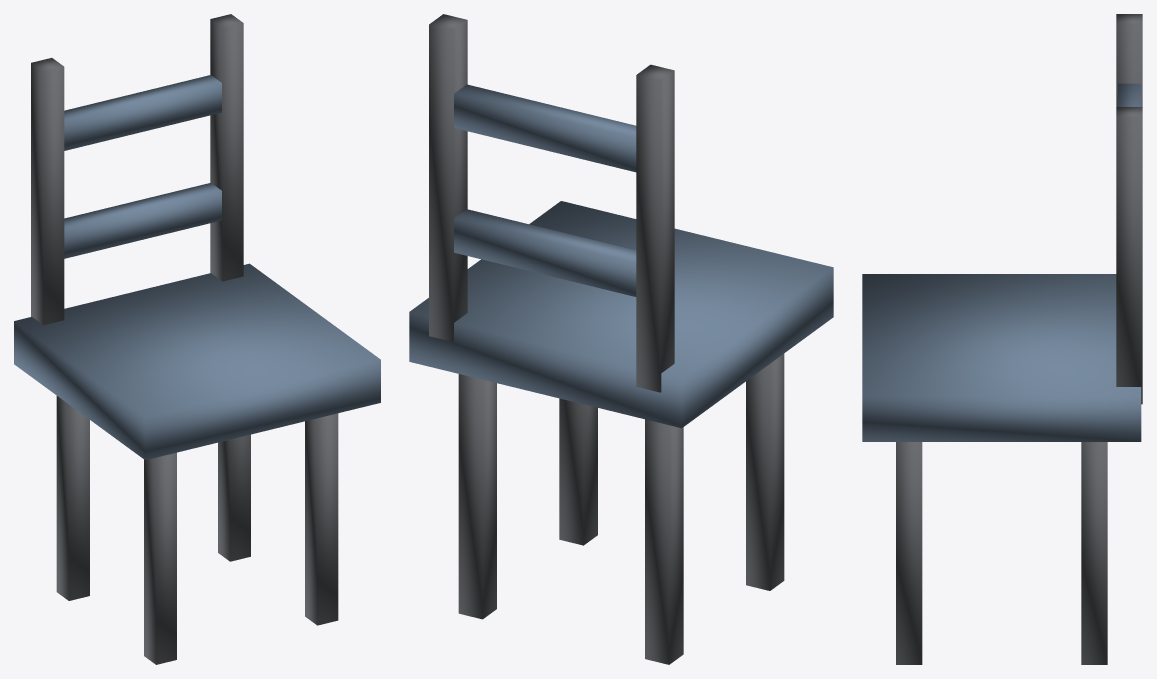
Rendered from jury_chair__compact.glb.
3 views of the same model, side by side, from view 1: azimuth 30°, elevation 25°; view 2: azimuth 150°, elevation 25°; view 3: azimuth 270°, elevation 25° (orthographic). The views are drawn at different scales.
Visible parts, largest first — view 1: world; view 2: world; view 3: world.
Boxes of the visible parts, box(x1,y1,x2,y2) form: world: box(14, 14, 380, 664); world: box(409, 14, 833, 664); world: box(862, 14, 1142, 664).
Bounding box in the file's own units: 0.4254 × 0.8957 × 0.4125.
